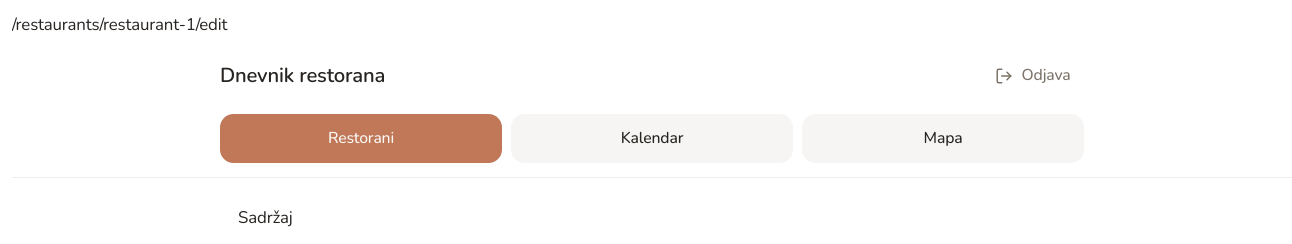
Faza 7A V1 ulaz i navigacija › navigira između sva tri V1 taba i označava aktivnu sekciju
Step 1. Click the link "Kalendar" → point(652, 139), box [511,114,793,163]
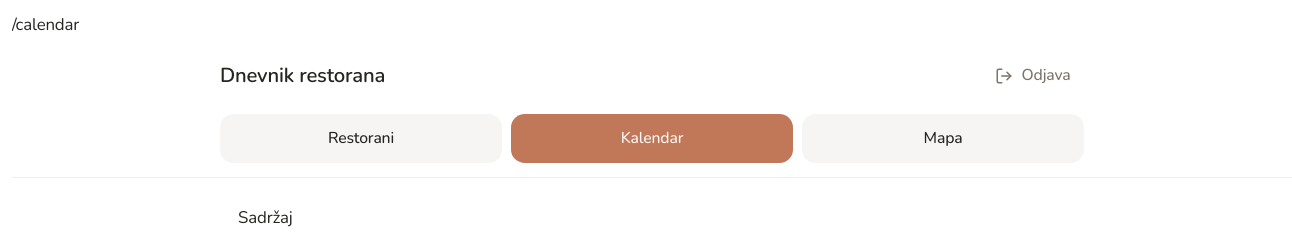
Result: the text with test id "route" reads "/calendar" at [12,13,79,36]
Step 2. Click the link "Mapa" → point(943, 139), box [802,114,1084,163]
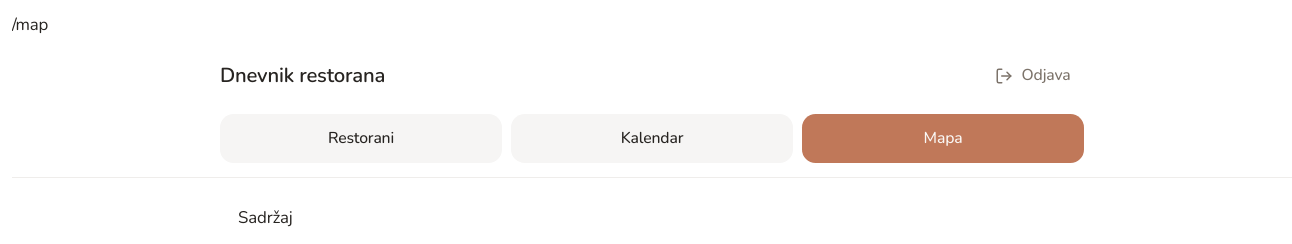
Result: the text with test id "route" reads "/map" at [12,13,48,36]
